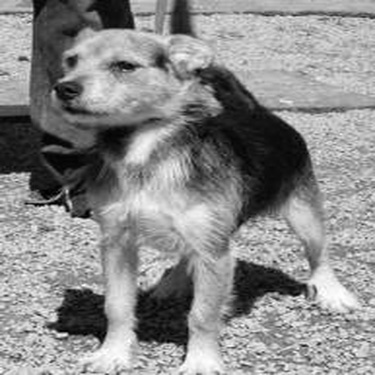dog: (40, 27, 363, 374)
